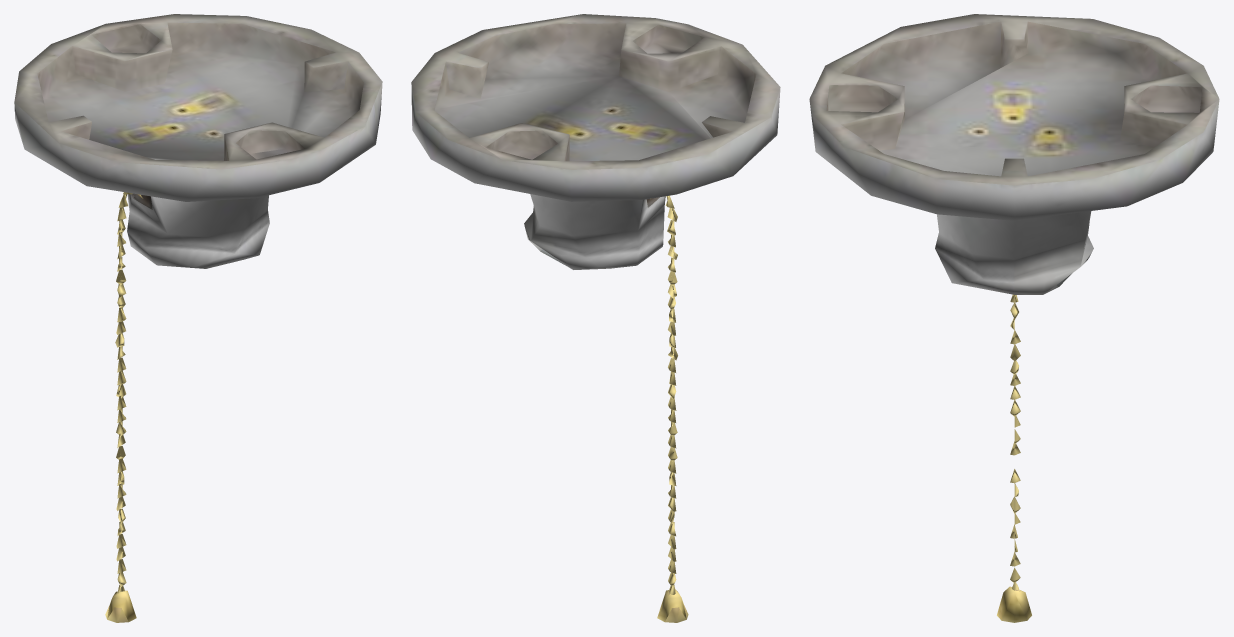
Rendered from pull_chain_light_socket.glb.
The picture shows the model from 3 angles, left to right: view 1: azimuth 30°, elevation 25°; view 2: azimuth 150°, elevation 25°; view 3: azimuth 270°, elevation 25°; orthographic projection. The views are drawn at different scales.
Parts seen in each view (by area): view 1: pull_chain_light_socket, pull_chain_light_socket_chain; view 2: pull_chain_light_socket, pull_chain_light_socket_chain; view 3: pull_chain_light_socket, pull_chain_light_socket_chain.
Boxes of the visible parts, <box> form: pull_chain_light_socket: <box>14,14,382,268</box>; pull_chain_light_socket_chain: <box>105,192,136,622</box>; pull_chain_light_socket: <box>411,14,780,269</box>; pull_chain_light_socket_chain: <box>657,195,688,622</box>; pull_chain_light_socket: <box>809,14,1219,294</box>; pull_chain_light_socket_chain: <box>997,294,1031,622</box>.
Size of the model in its own units: 0.109 by 0.1653 by 0.11.
Materials: 1 (1 with a texture image).
